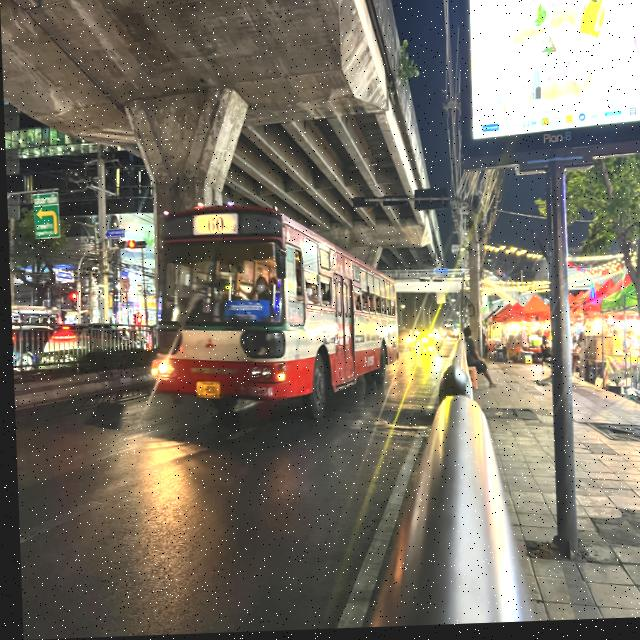BMTA-bus: (135, 201, 399, 442)
Bus-Line-Number: (190, 215, 238, 236)
Destination-Sign-Normal: (221, 302, 268, 327)
